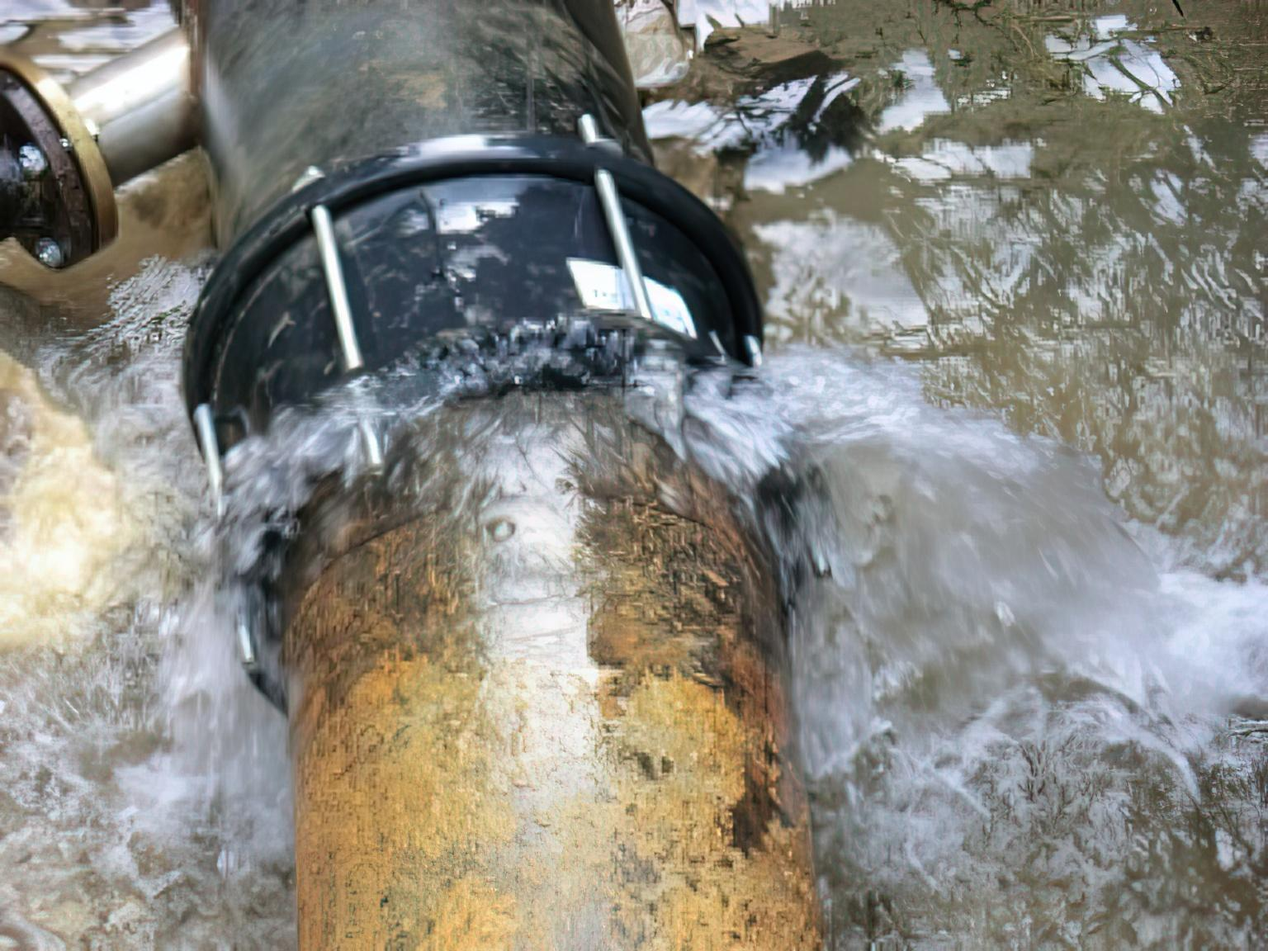pipe burst: (154, 310, 1209, 726)
water accumulation: (0, 0, 1267, 951)
